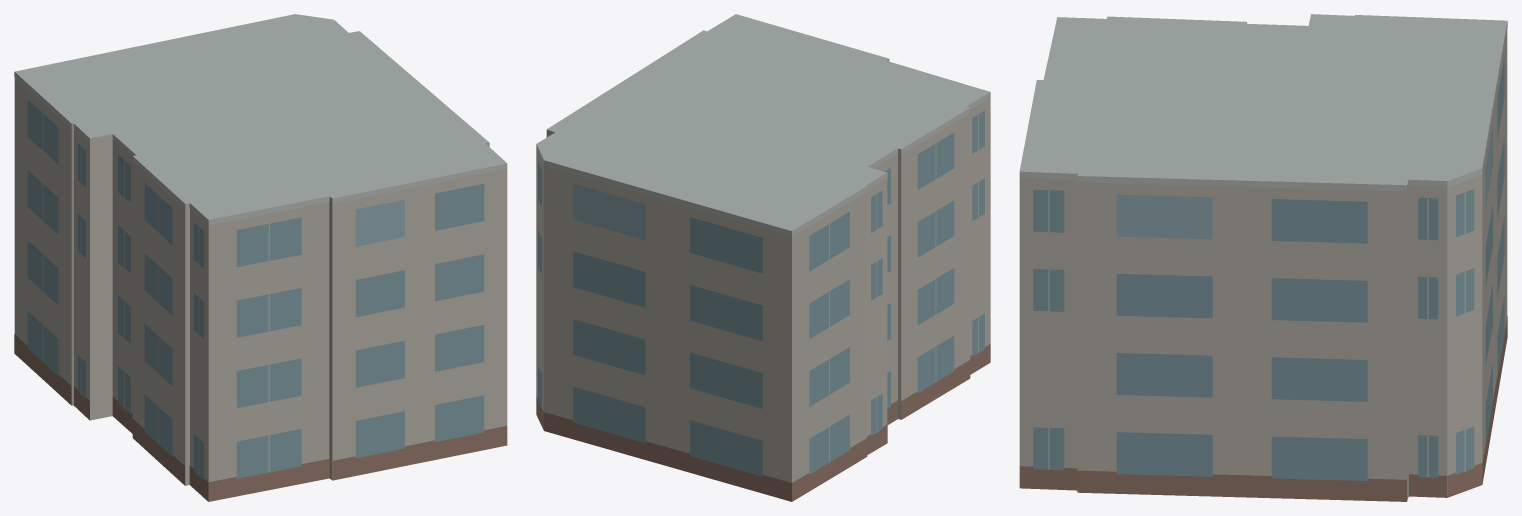
File: survey-upis-32679562.glb
The picture shows the model from 3 angles, left to right: view 1: azimuth 30°, elevation 25°; view 2: azimuth 150°, elevation 25°; view 3: azimuth 270°, elevation 25°; orthographic projection. The views are drawn at different scales.
Parts seen in each view (by area): view 1: survey-upis-32679562.tmp; view 2: survey-upis-32679562.tmp; view 3: survey-upis-32679562.tmp.
Boxes of the visible parts, box(x1,y1,x2,y2) form: survey-upis-32679562.tmp: box(14, 14, 507, 501); survey-upis-32679562.tmp: box(536, 14, 990, 501); survey-upis-32679562.tmp: box(1019, 14, 1507, 501).
Bounding box in the file's own units: 14.42 × 12.43 × 17.36.
